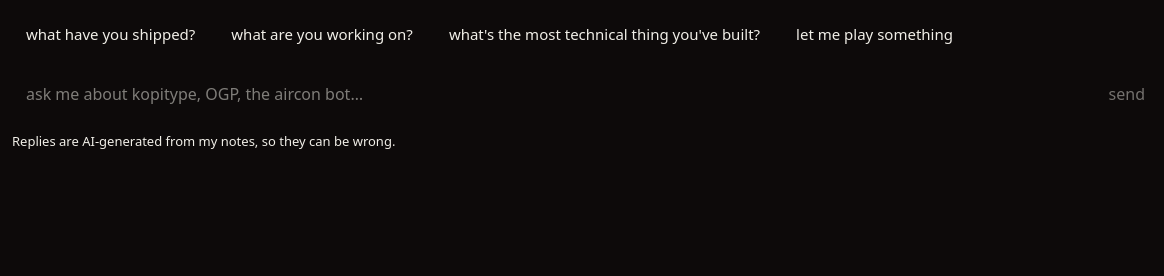
homepage chat › clears the old card, and asks Jev with the answer so the card matches it
In the field named "Ask Anselm": (557, 94) 26,74 -> 1088,114, type "what camera do you use?"
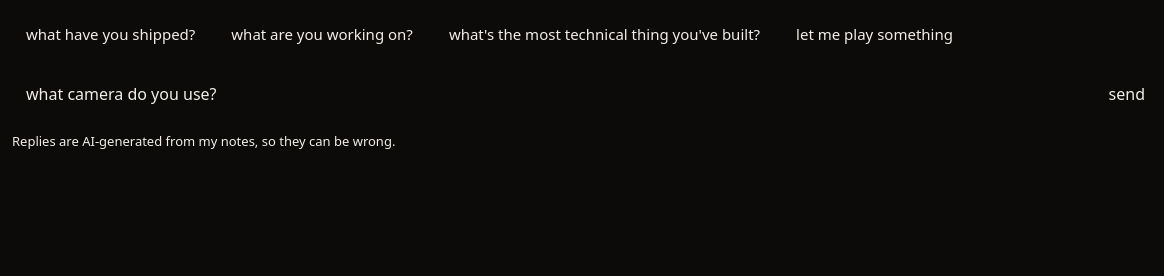
Click the button "send": (1127, 94) 1096,74 -> 1158,114
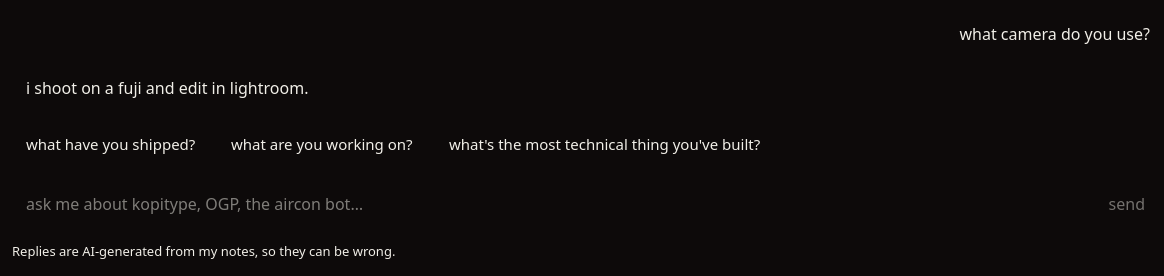
expect the text "i shoot on a fuji and edit in lightroom." is shown: met, box 26,77 -> 308,99
